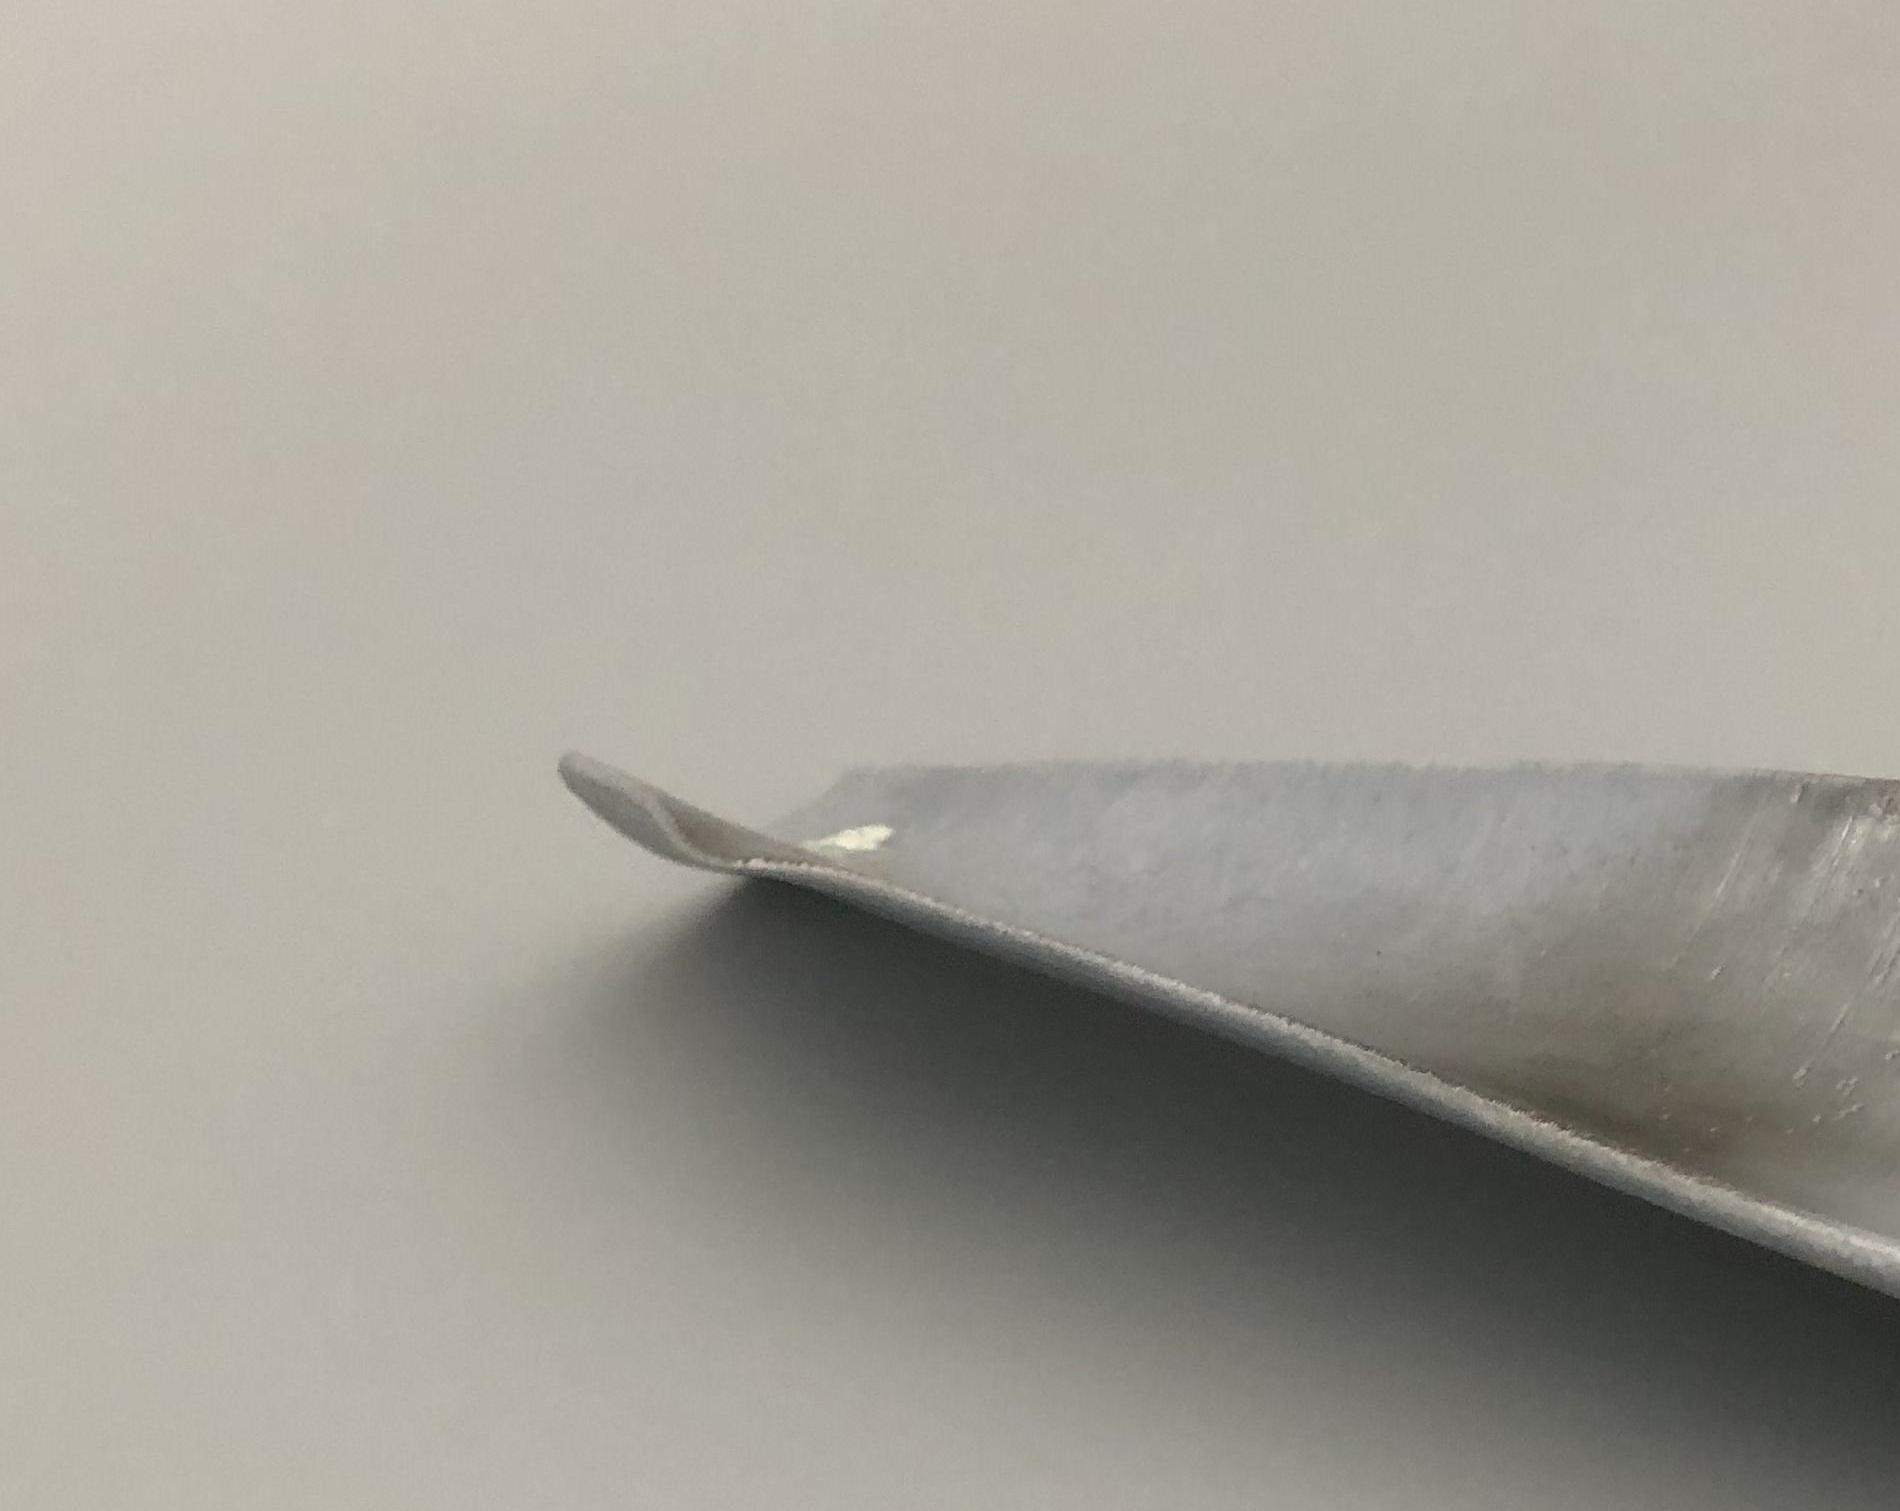ablation: (1502, 970, 1854, 1173)
